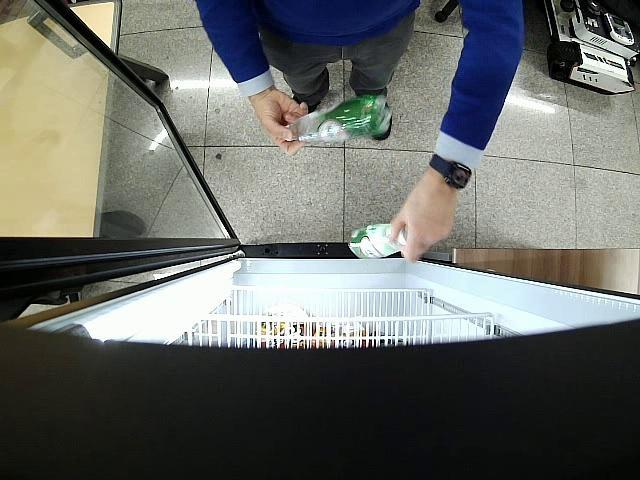18_trevi: (284, 93, 392, 143), (350, 225, 408, 258)
